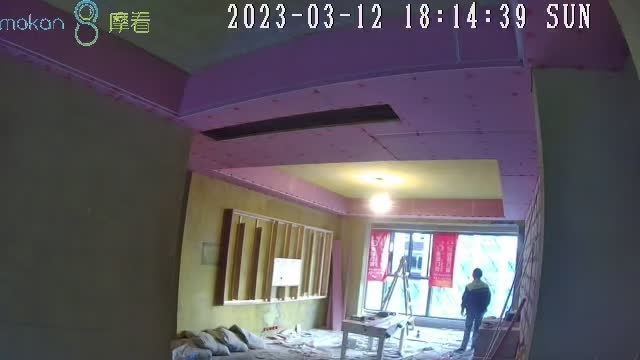people: (455, 268, 492, 352)
window: (363, 226, 520, 323)
